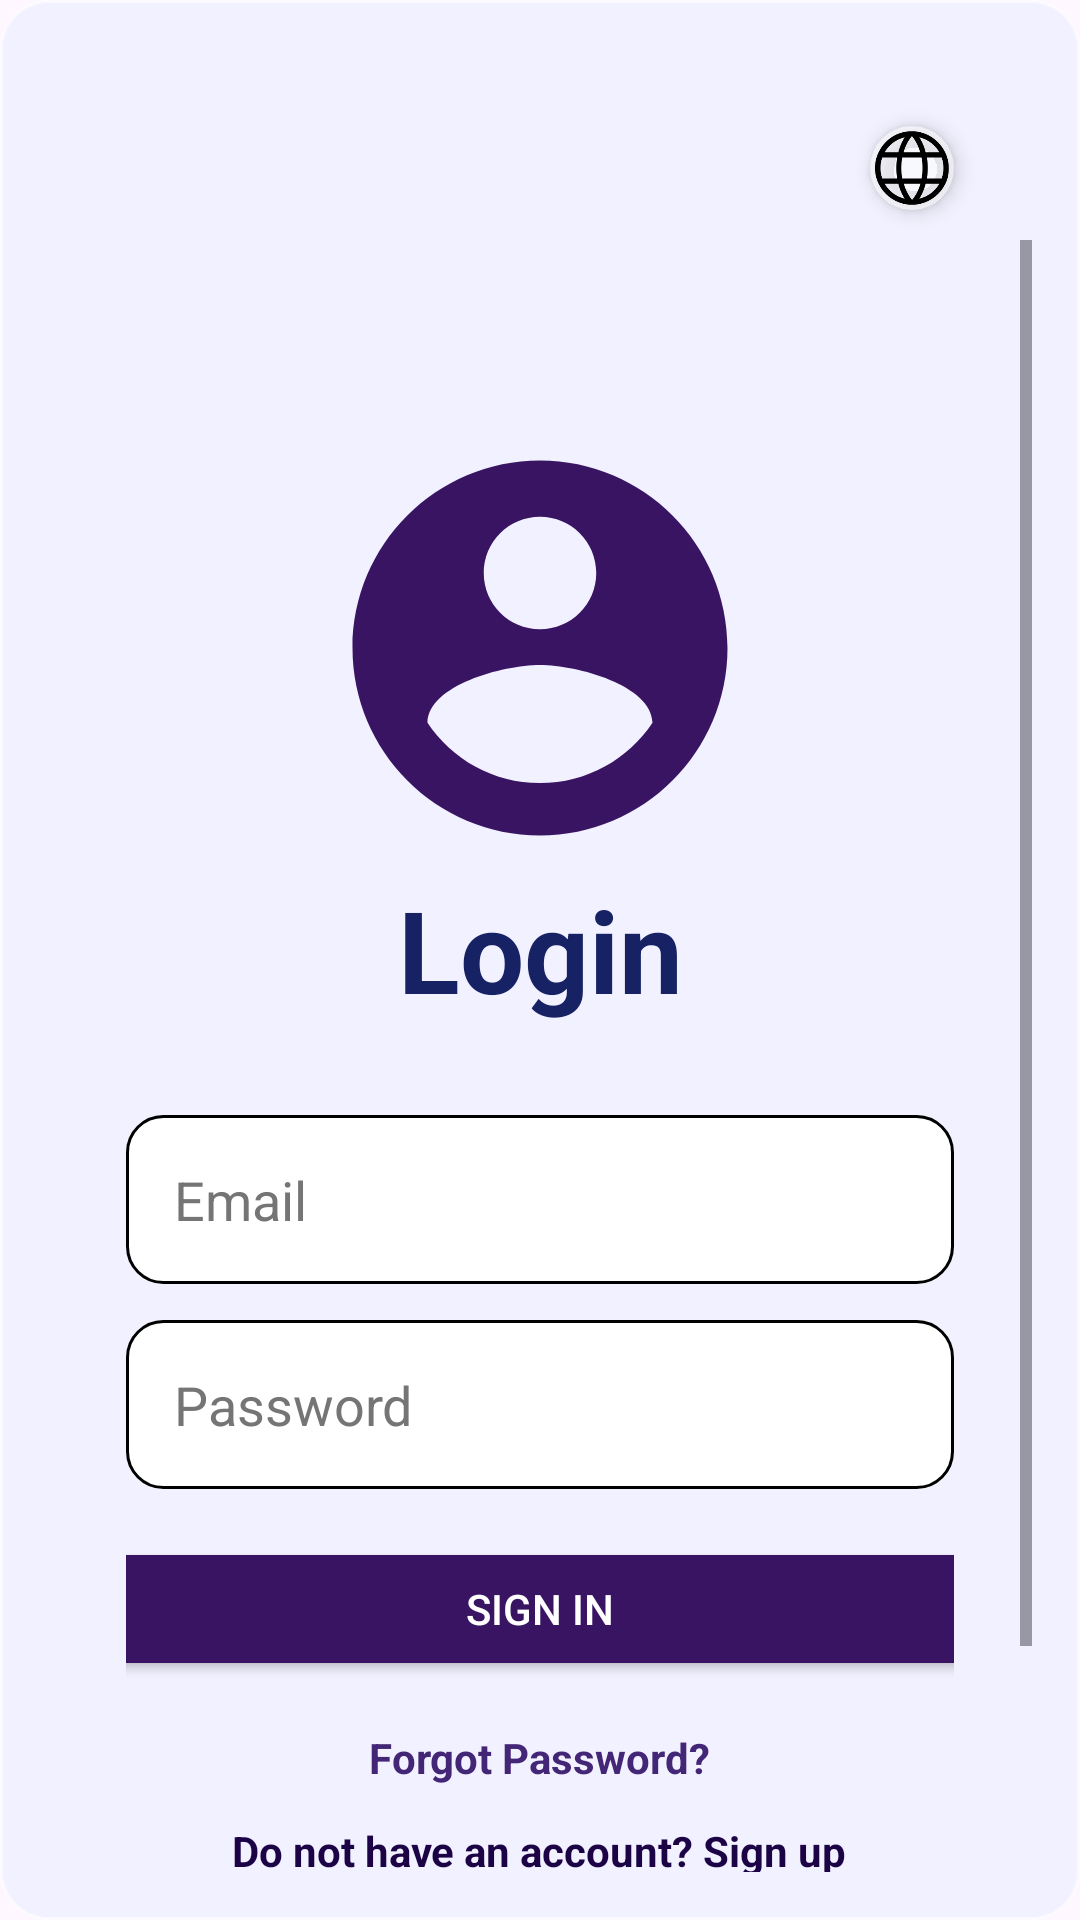

Locate icon controls on the screen. Image size 1080px x 1920px, boxes as (x1, y1, x2, y2).
Switch Language: (875, 130, 956, 211)
